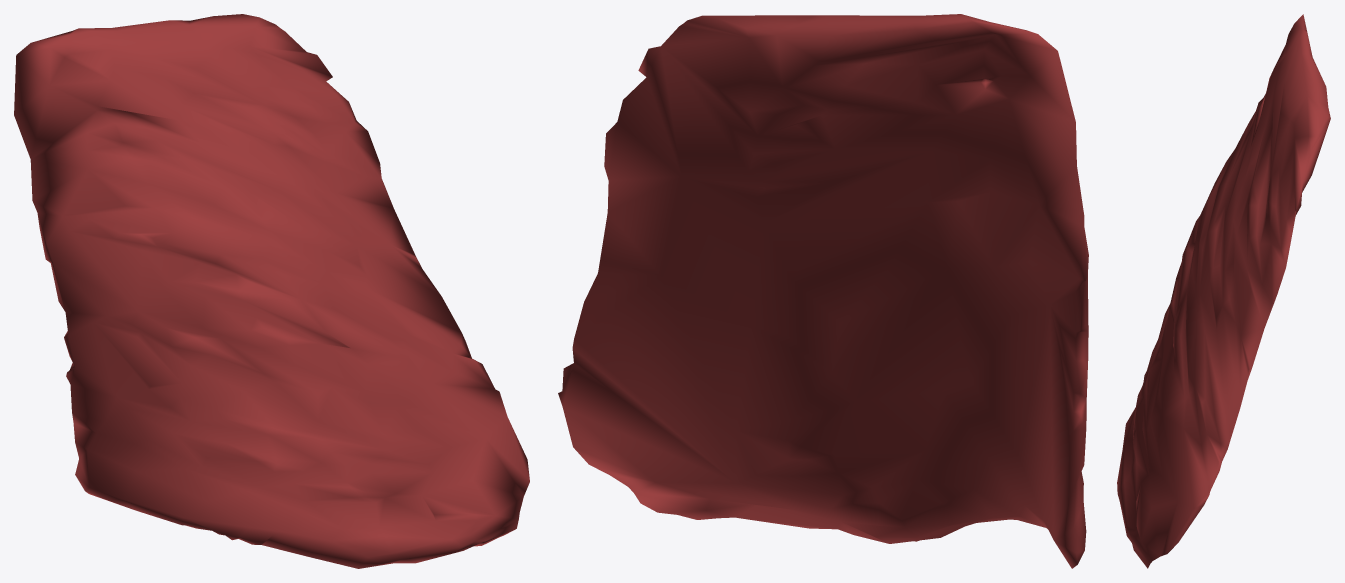
The model's file is pronator-quadratus-l.glb.
3 views of the same model, side by side, from view 1: azimuth 30°, elevation 25°; view 2: azimuth 150°, elevation 25°; view 3: azimuth 270°, elevation 25° (orthographic). The views are drawn at different scales.
Parts seen in each view (by area): view 1: Pronator quadratus.l; view 2: Pronator quadratus.l; view 3: Pronator quadratus.l.
Boxes of the visible parts, <box> form: Pronator quadratus.l: <box>14,14,529,568</box>; Pronator quadratus.l: <box>558,14,1088,568</box>; Pronator quadratus.l: <box>1117,14,1330,568</box>.
Size of the model in its own units: 0.0466 by 0.0521 by 0.0247.
